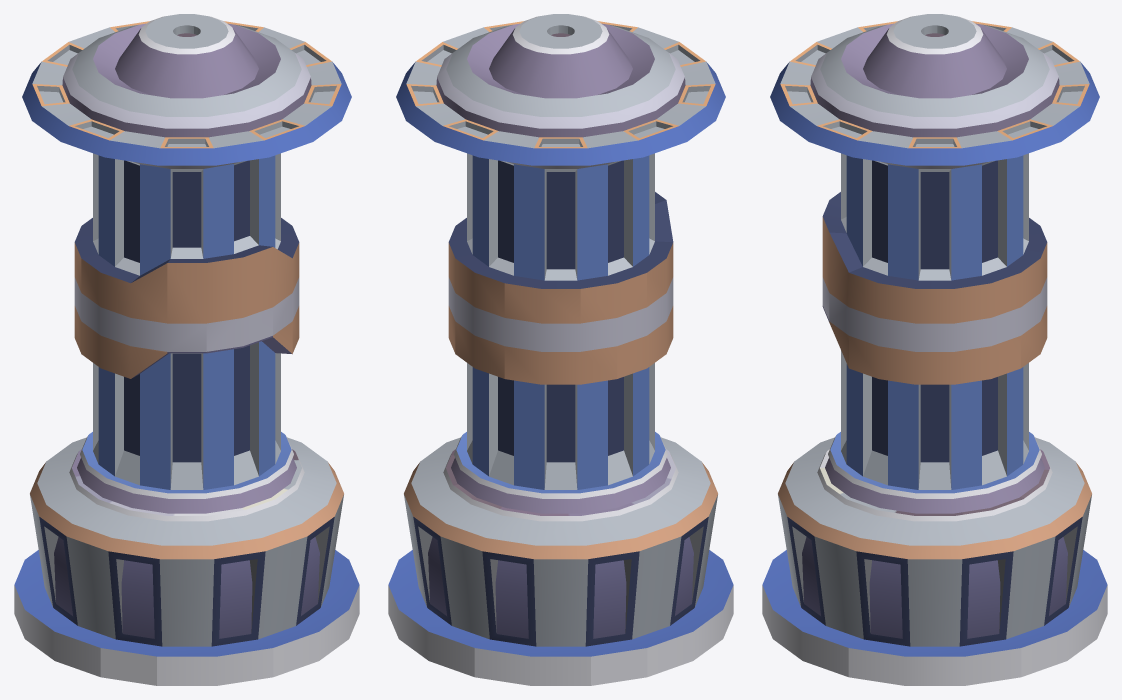
Rendered from Pump1.fbx.
3 renders of one model, left to right at view 1: azimuth 30°, elevation 25°; view 2: azimuth 150°, elevation 25°; view 3: azimuth 270°, elevation 25°, orthographic.
Visible parts, largest first — view 1: Cylinder.002; view 2: Cylinder.002; view 3: Cylinder.002.
Part boxes in pixels (x1,y1,x2,y2): Cylinder.002: (14,14,359,685); Cylinder.002: (388,14,733,685); Cylinder.002: (762,14,1107,685).
Bounding box in the file's own units: 361 × 684 × 367.
